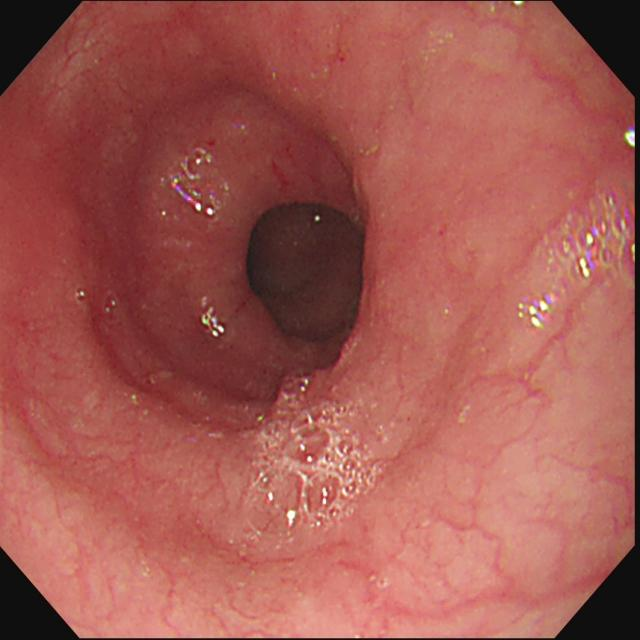E: (241, 196, 377, 354)
T: (253, 372, 386, 534), (559, 187, 635, 286)
U: (169, 146, 217, 218), (518, 292, 561, 332), (197, 297, 225, 341)
